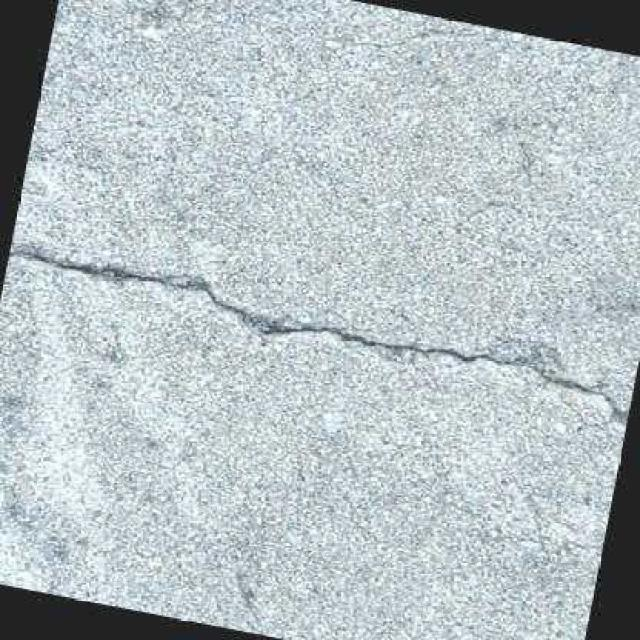D00: (6, 244, 630, 432)
